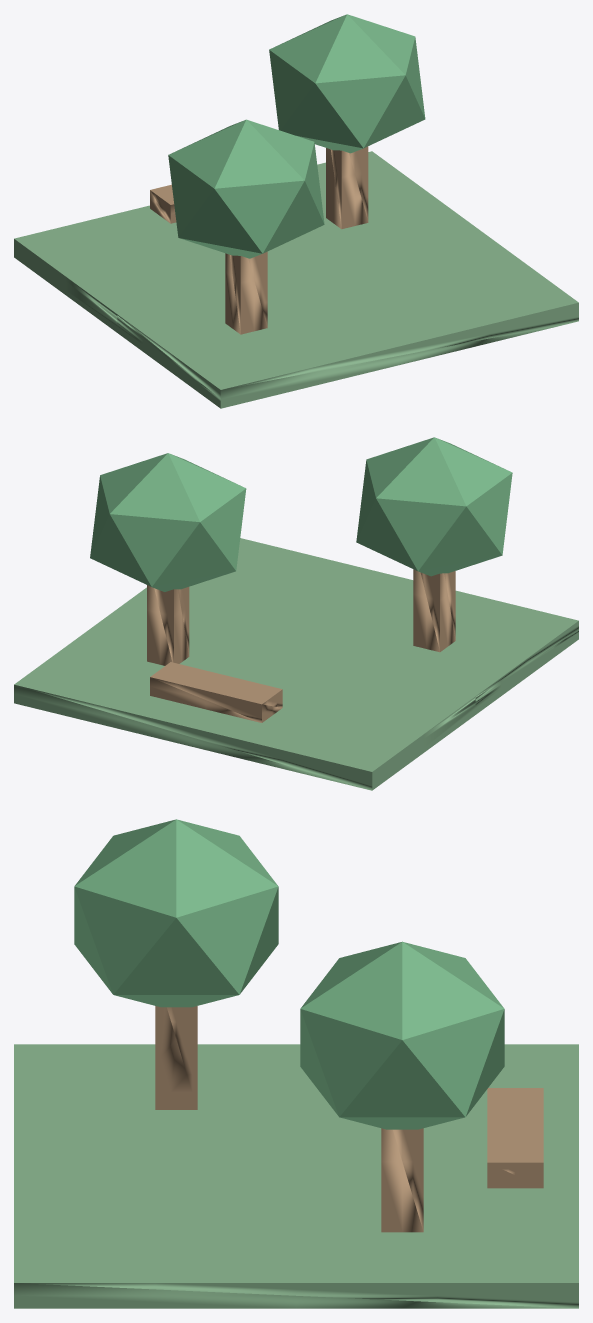
The model's file is park.glb.
The picture shows the model from 3 angles, top to bottom: view 1: azimuth 30°, elevation 25°; view 2: azimuth 150°, elevation 25°; view 3: azimuth 270°, elevation 25°; orthographic projection. The views are drawn at different scales.
Visible parts, largest first — view 1: MetroPark; view 2: MetroPark; view 3: MetroPark.
Boxes of the visible parts, x1,y1,x2,y2 form: MetroPark: [14, 14, 578, 408]; MetroPark: [14, 437, 578, 790]; MetroPark: [14, 819, 578, 1308].
Bounding box in the file's own units: 1.6 × 0.96 × 1.6.
